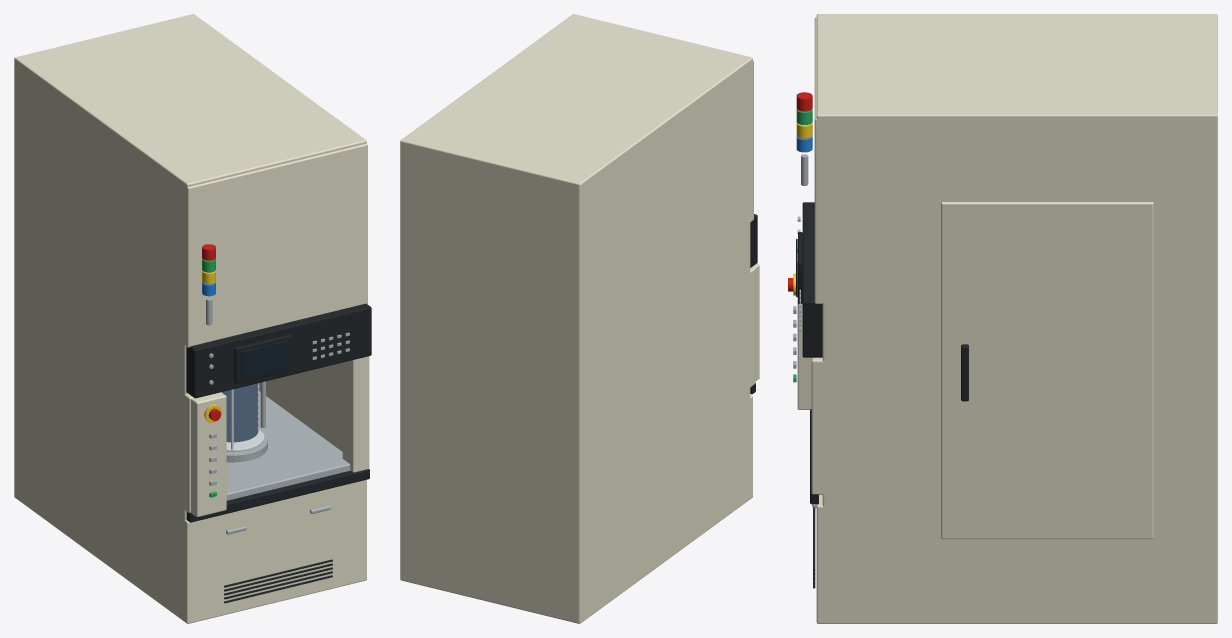
The model's file is Oxidation_Furnace.fbx.
The picture shows the model from 3 angles, left to right: view 1: azimuth 30°, elevation 25°; view 2: azimuth 150°, elevation 25°; view 3: azimuth 270°, elevation 25°; orthographic projection. The views are drawn at different scales.
Visible parts, largest first — view 1: Furnace_Side_Panel, Furnace_Top_Cover, Furnace_Upper_Cabinet, Furnace_Lower_Cabinet, Furnace_Control_Panel, Furnace_Loading_Floor, Furnace_Side_Panel.001, Furnace_Left_Control_Column, Furnace_Loading_Frame.001, Furnace_Rear_Panel, Furnace_Lower_Black_Trim, Furnace_Loading_Frame (+3 smaller); view 2: Furnace_Rear_Panel, Furnace_Side_Panel, Furnace_Top_Cover, Furnace_Lower_Cabinet, Furnace_Loading_Frame, Furnace_Upper_Cabinet, Furnace_Left_Control_Column; view 3: Furnace_Side_Panel.001, Furnace_Maintenance_Panel, Furnace_Top_Cover, Furnace_Lower_Cabinet, Furnace_Rear_Panel, Furnace_Loading_Frame.001, Furnace_Upper_Cabinet, Furnace_Control_Panel, Furnace_Left_Control_Column.
Boxes of the visible parts, x1,y1,x2,y2 form: Furnace_Side_Panel: (17,67,188,598); Furnace_Top_Cover: (14,14,366,188); Furnace_Upper_Cabinet: (182,143,367,347); Furnace_Lower_Cabinet: (153,479,366,623); Furnace_Control_Panel: (186,303,371,398); Furnace_Loading_Floor: (226,391,350,500); Furnace_Side_Panel.001: (259,362,342,451); Furnace_Left_Control_Column: (191,392,226,517); Furnace_Loading_Frame.001: (342,356,369,472); Furnace_Rear_Panel: (14,59,18,499); Furnace_Lower_Black_Trim: (186,469,369,522); Furnace_Loading_Frame: (179,392,193,512); Furnace_Rear_Panel: (400,141,584,623); Furnace_Side_Panel: (581,66,750,621); Furnace_Top_Cover: (400,14,752,190); Furnace_Lower_Cabinet: (719,395,752,521); Furnace_Loading_Frame: (745,267,755,390); Furnace_Upper_Cabinet: (748,60,753,222); Furnace_Left_Control_Column: (751,263,759,381); Furnace_Side_Panel.001: (822,116,1210,623); Furnace_Maintenance_Panel: (941,202,1153,539); Furnace_Top_Cover: (816,14,1217,122); Furnace_Lower_Cabinet: (816,495,895,623); Furnace_Rear_Panel: (1207,115,1217,623); Furnace_Loading_Frame.001: (811,357,835,494); Furnace_Upper_Cabinet: (814,17,828,303); Furnace_Control_Panel: (802,202,822,357); Furnace_Left_Control_Column: (797,262,811,409).
Size of the model in its own units: 126 by 280 by 214.
